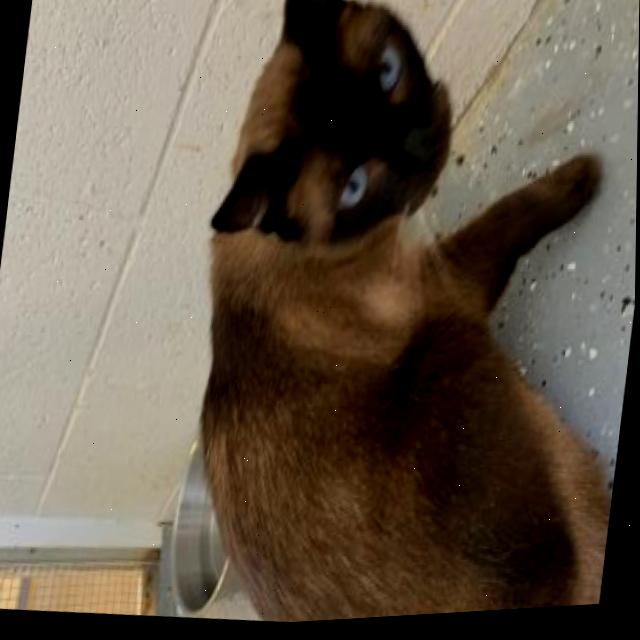Siamese: (154, 0, 640, 633)
